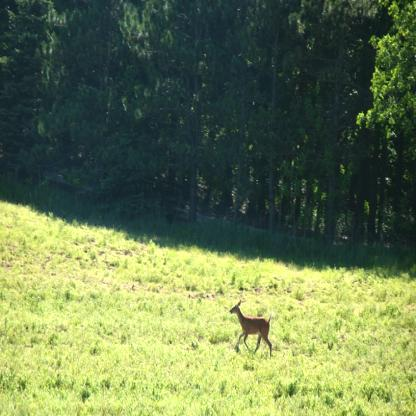Deer: (228, 299, 274, 361)
